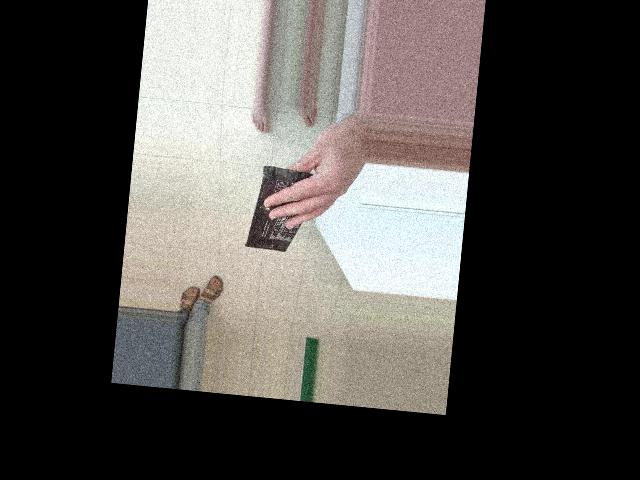chocolate: (244, 148, 326, 258)
